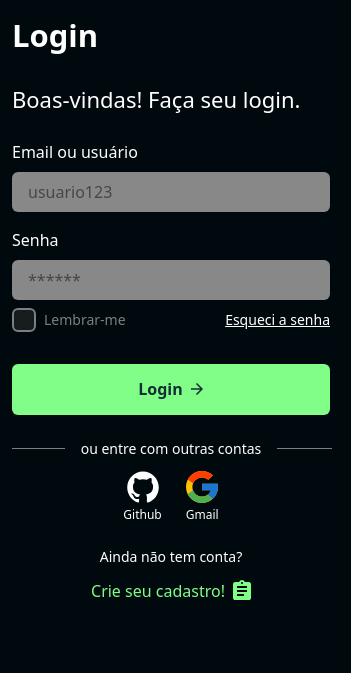
Test case: LoginForm › shows validation errors and does not submit when fields are empty
Click the button "Login".
click(171, 389)  # box [12, 364, 330, 414]
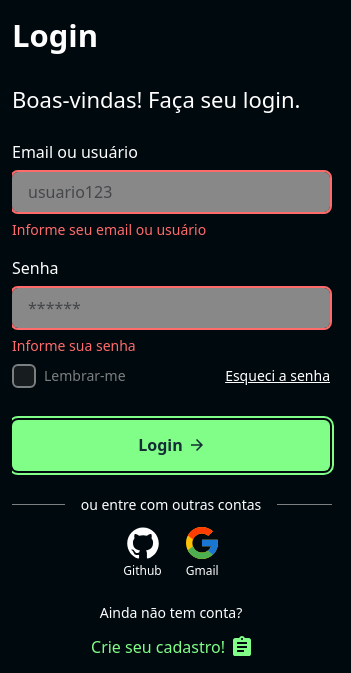
Expected: the text "Informe seu email ou usuário" is shown, [12, 220, 206, 238]
Expected: the text "Informe sua senha" is shown, [12, 336, 136, 354]
